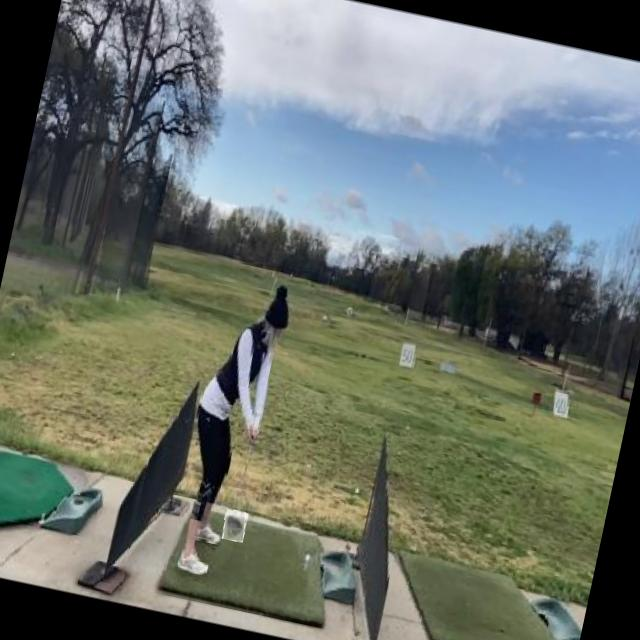club head: (220, 508, 248, 542)
